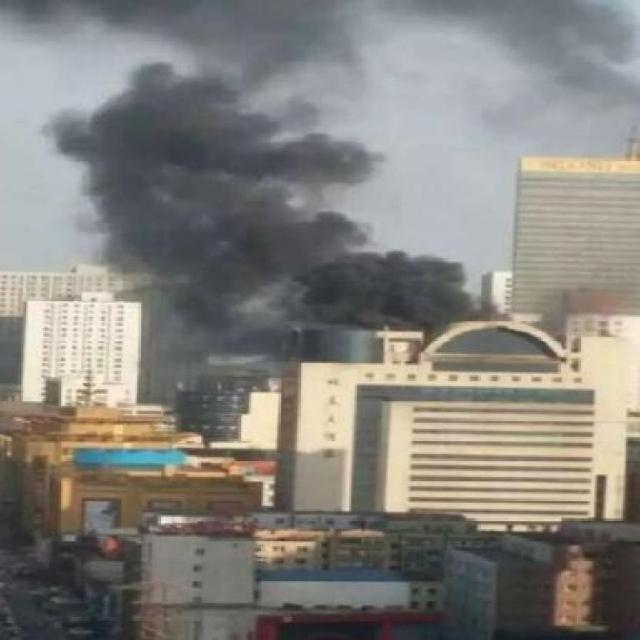Smoke: (78, 31, 476, 326)
